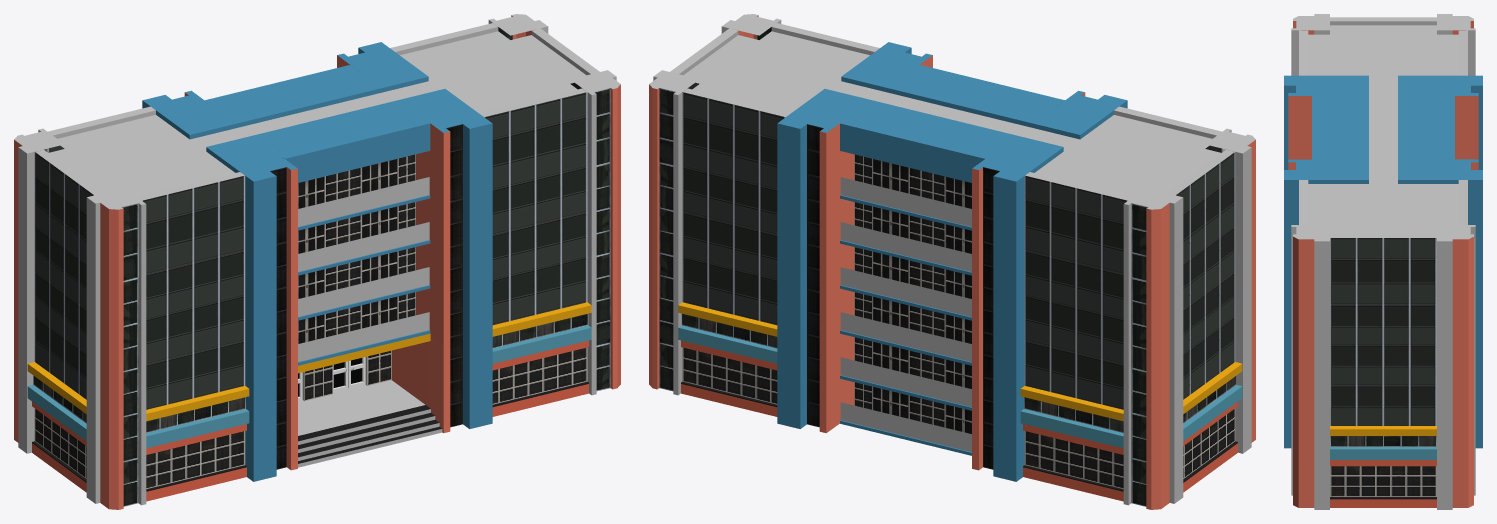
3 renders of one model, left to right at view 1: azimuth 30°, elevation 25°; view 2: azimuth 150°, elevation 25°; view 3: azimuth 270°, elevation 25°, orthographic. The views are drawn at different scales.
Visible parts, largest first — view 1: Building; view 2: Building; view 3: Building.
Part boxes in pixels (<box>): Building: <box>14,14,620,509</box>; Building: <box>649,14,1255,509</box>; Building: <box>1284,14,1482,509</box>.
Size of what is drawn, in the model's own units: 36.32 by 20 by 13.42.
